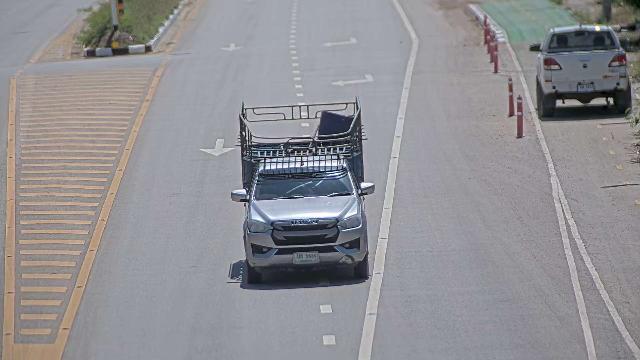pickup-truck: (230, 95, 375, 283), (528, 23, 632, 117)
